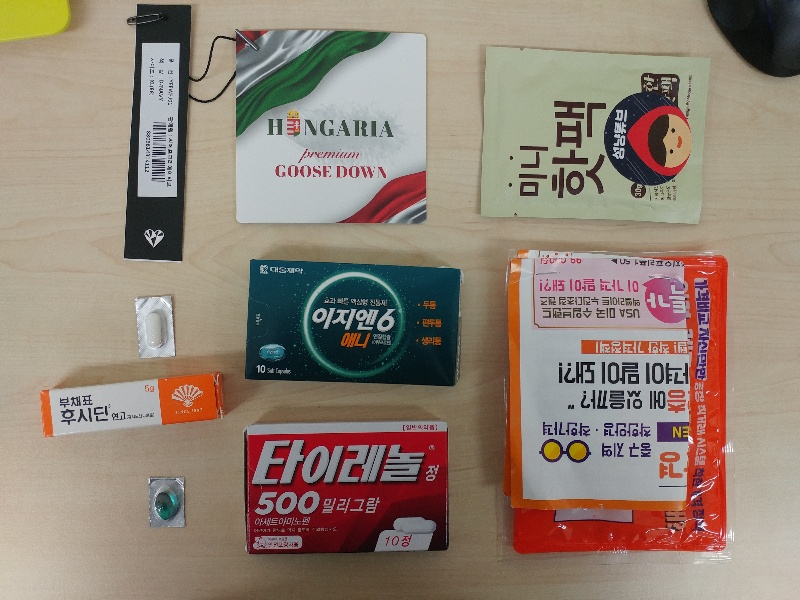ezn: (244, 261, 459, 386)
fucidin: (41, 372, 223, 436)
pill_ezn: (147, 478, 186, 529)
pill_tylenol: (135, 296, 173, 359)
tylenol: (242, 421, 452, 551)
